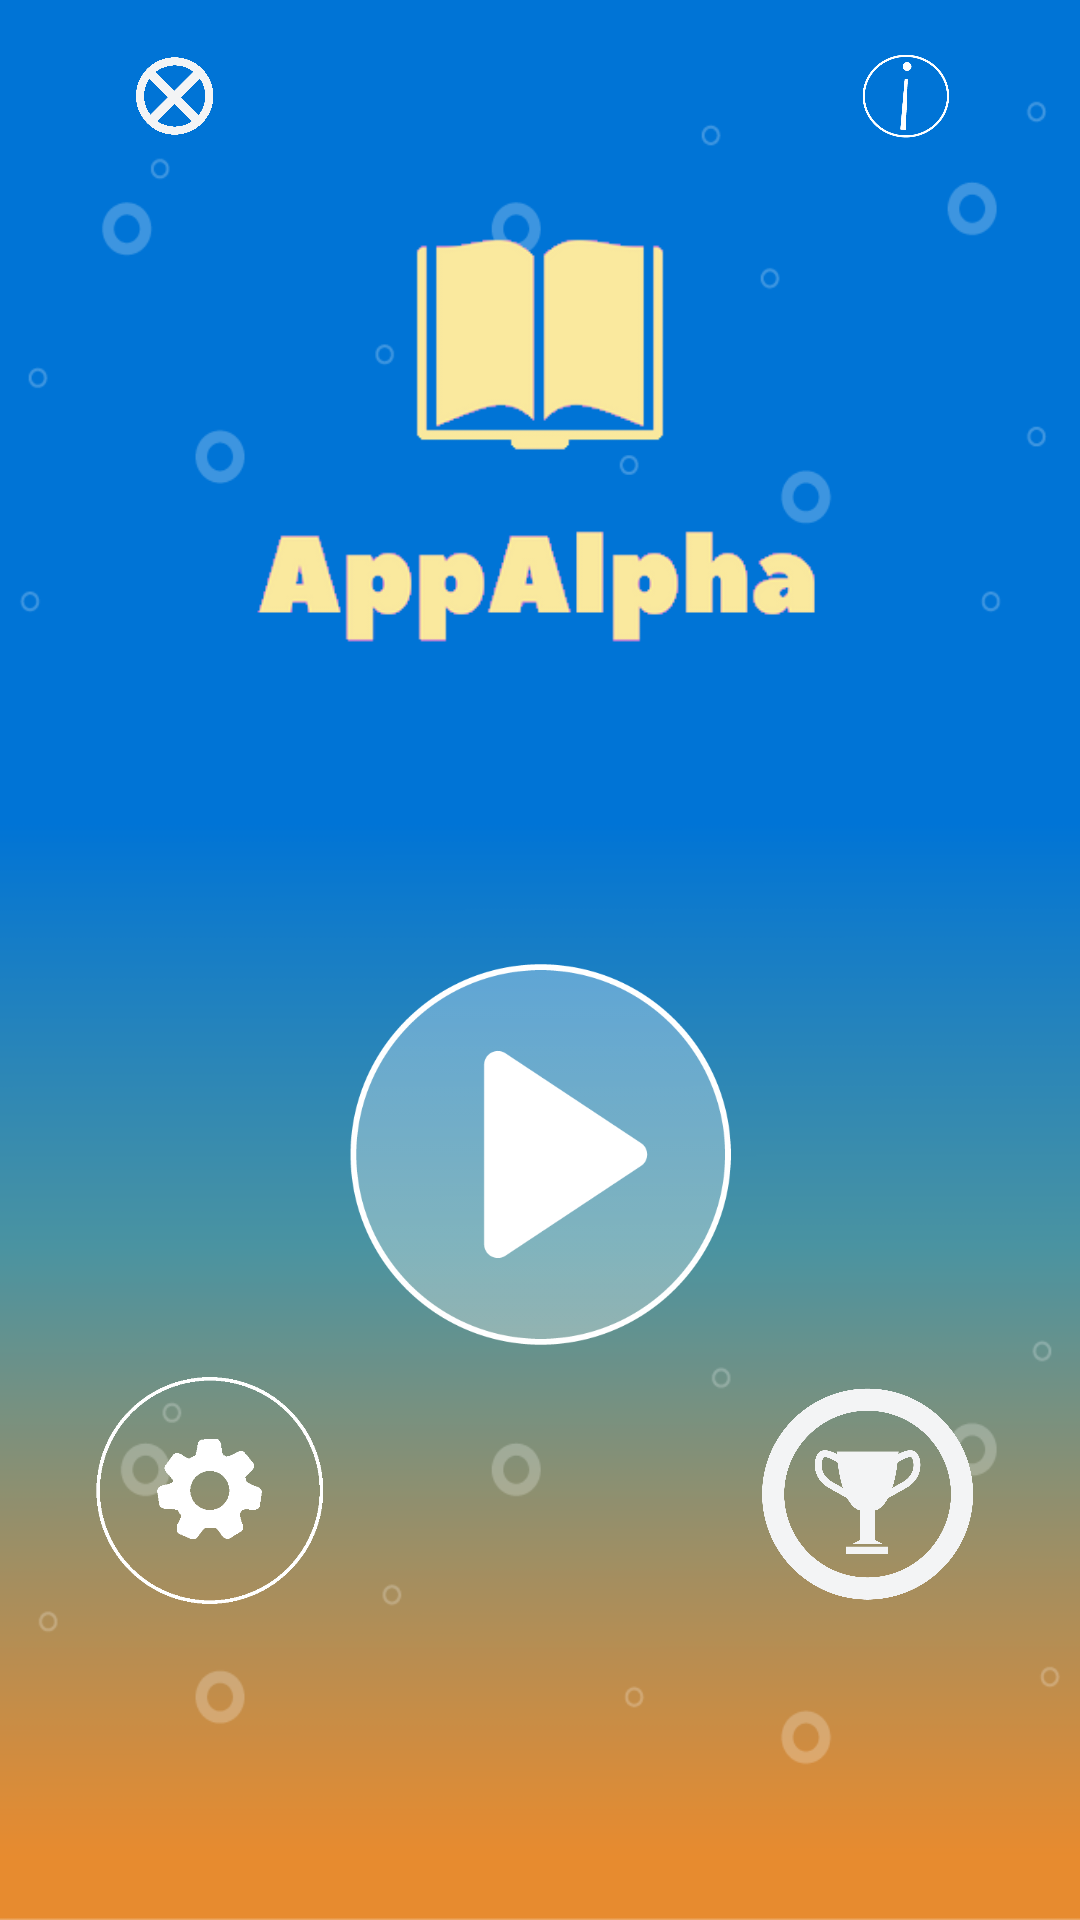

Point at icon controls on the screen. Image size 1080 x 1920, points as [x,y].
botaoconfig cropped: [210,1490]
close: [174,96]
trophy: [870,1490]
